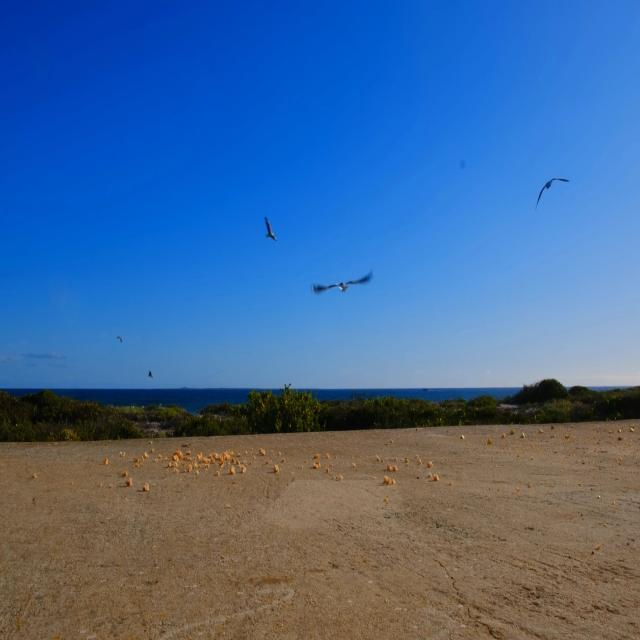bird: (307, 261, 377, 304), (530, 170, 574, 215), (259, 212, 279, 243), (115, 330, 125, 346), (147, 366, 153, 380)
